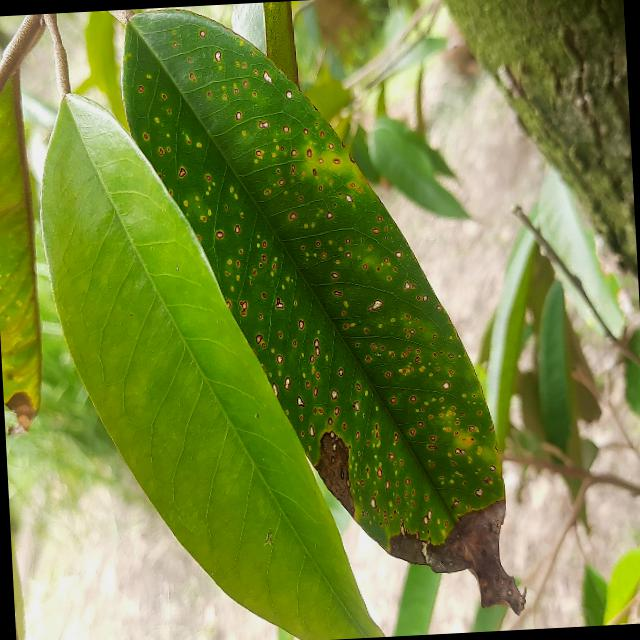Leaf Spot: (113, 0, 540, 639)
No Disease: (34, 78, 396, 639)
